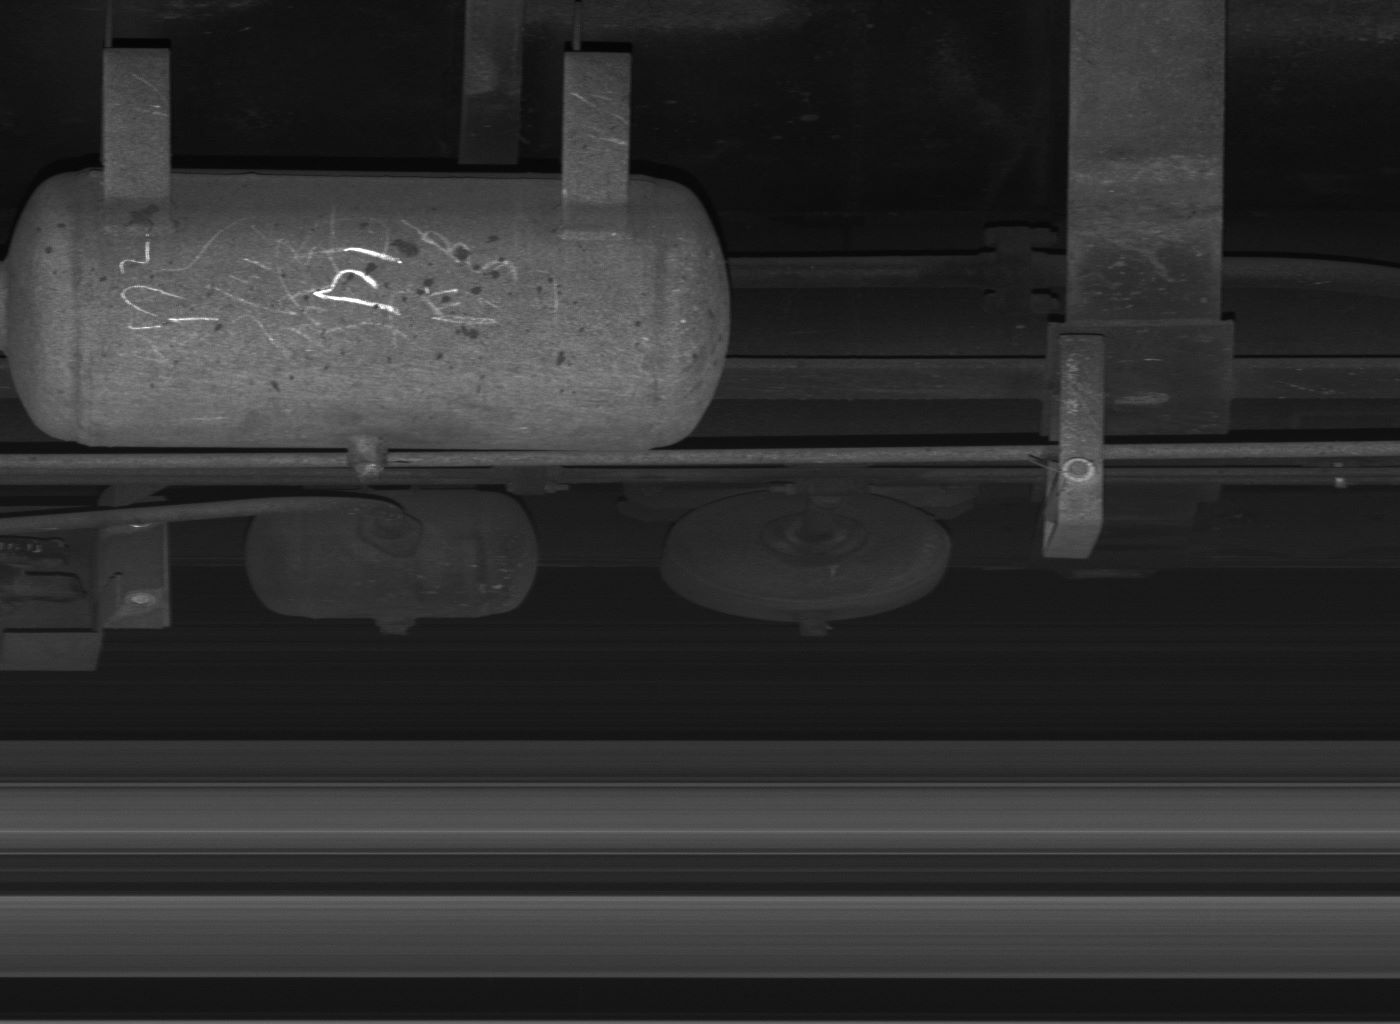normal: (1042, 332, 1105, 561)
